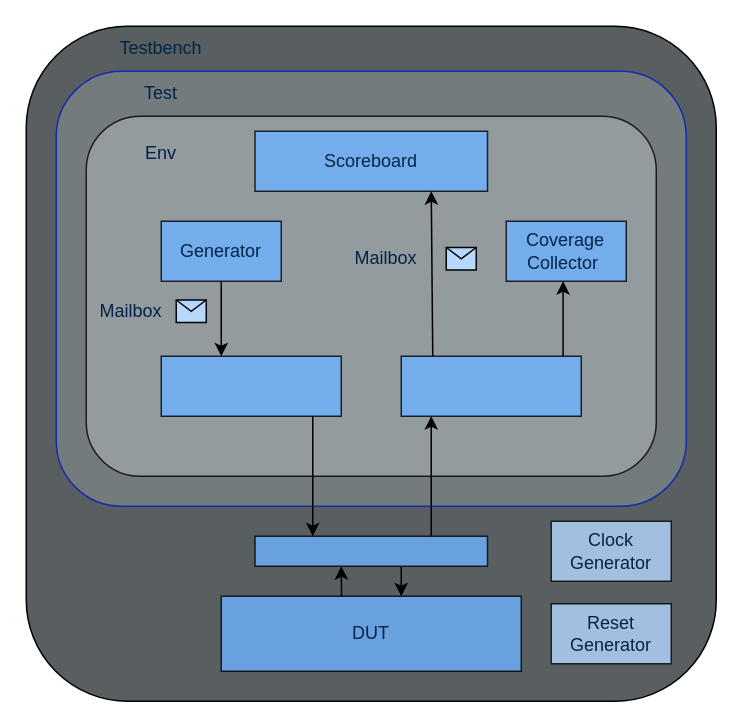
Image size: 743x728. Some labels were removed from this diagram. The box of each missing label's shape, as (x1, y1, x2, y2) in pixels:
Driver: (160, 355, 341, 416)
Interface: (254, 535, 488, 566)
Monitor: (400, 355, 581, 416)
